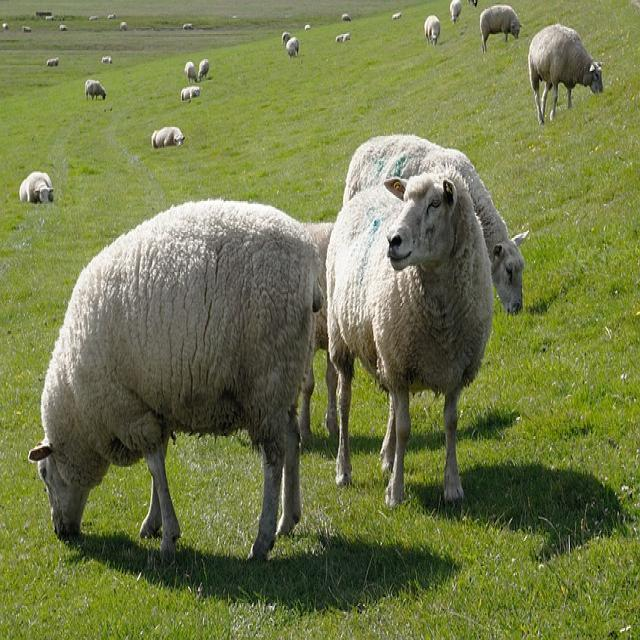goat: (29, 203, 321, 558), (329, 170, 494, 505), (344, 135, 525, 312), (529, 26, 602, 123), (480, 6, 521, 51), (19, 172, 54, 202), (152, 127, 185, 148), (424, 15, 440, 44), (85, 81, 106, 99), (180, 87, 200, 101), (286, 37, 299, 57), (184, 61, 196, 82), (198, 59, 210, 80), (335, 33, 351, 42)
